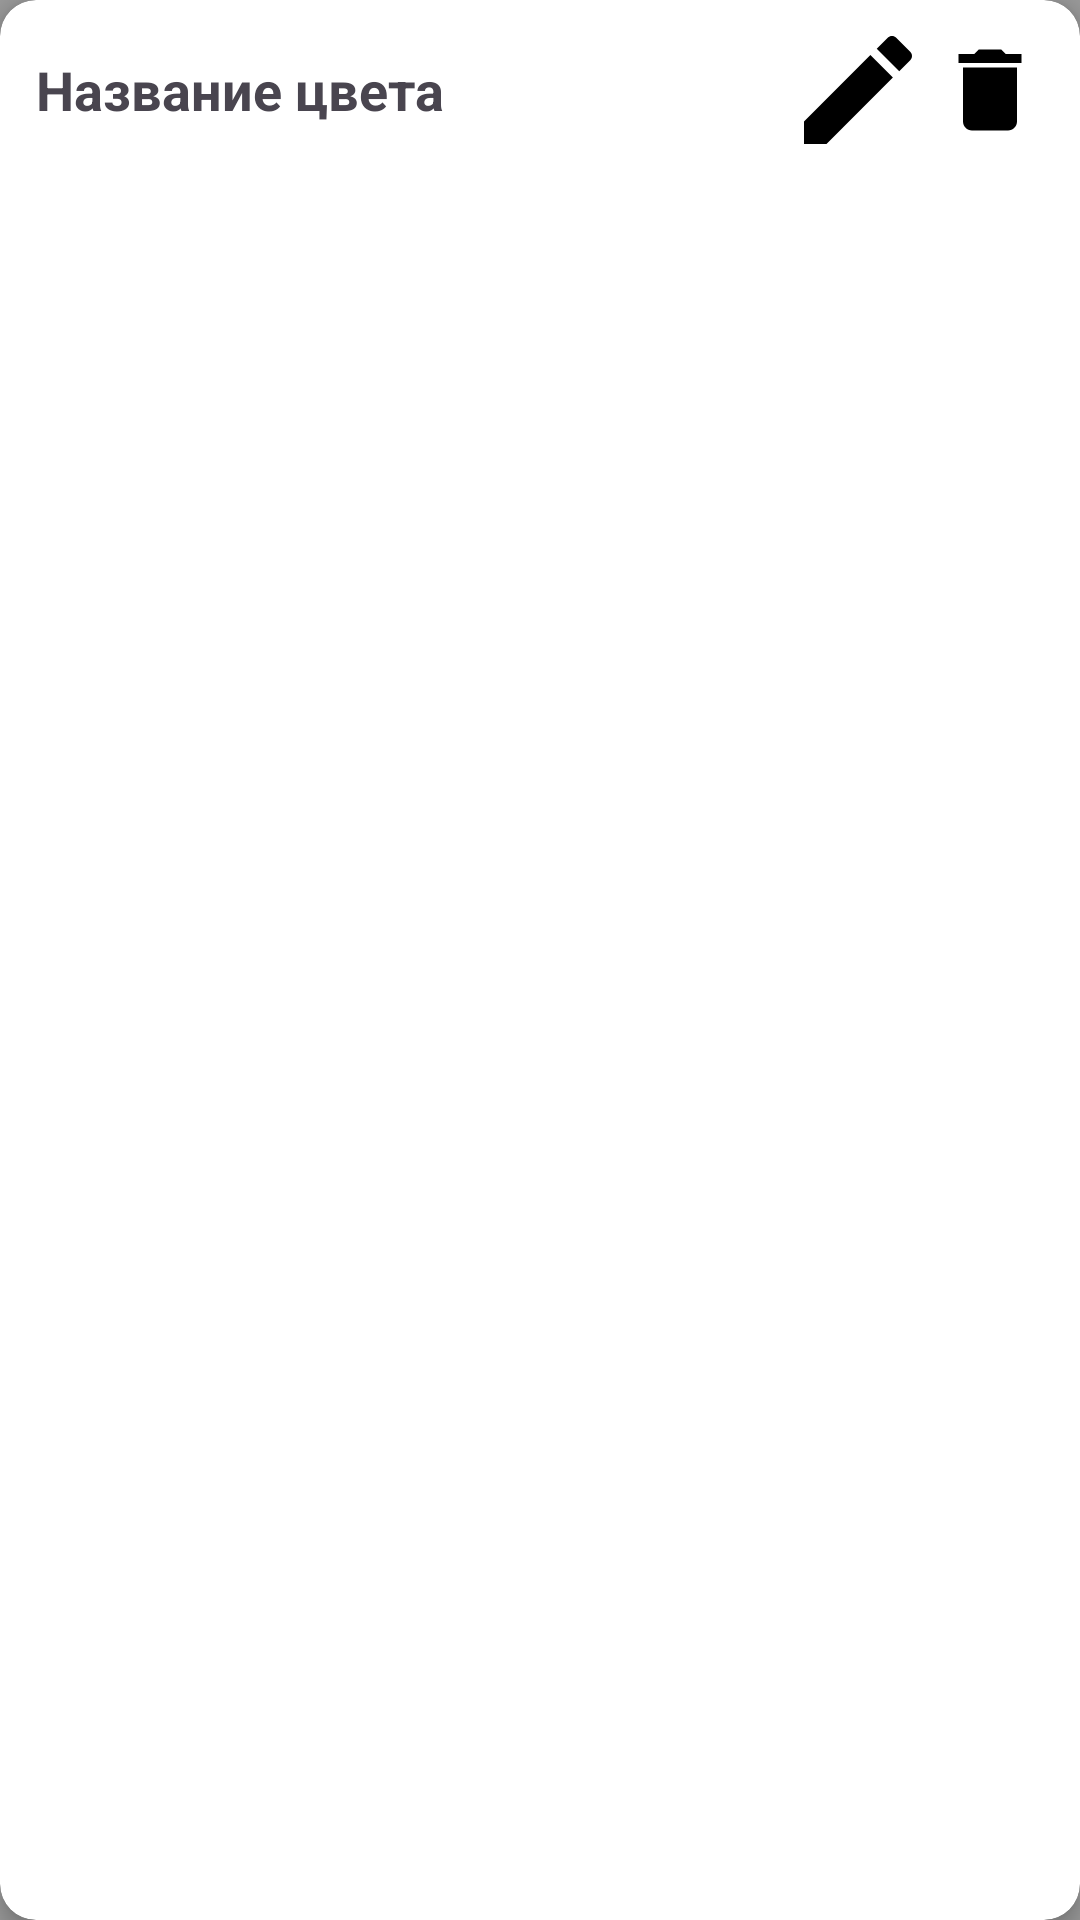

Locate icon controls on the screen. Image size 1080w x 1920h, boxes as (x1=x1, y1=y1, x2=x2, y2=y2).
delete db: (x1=958, y1=49, x2=1022, y2=131)
edit db: (x1=804, y1=36, x2=912, y2=144)
